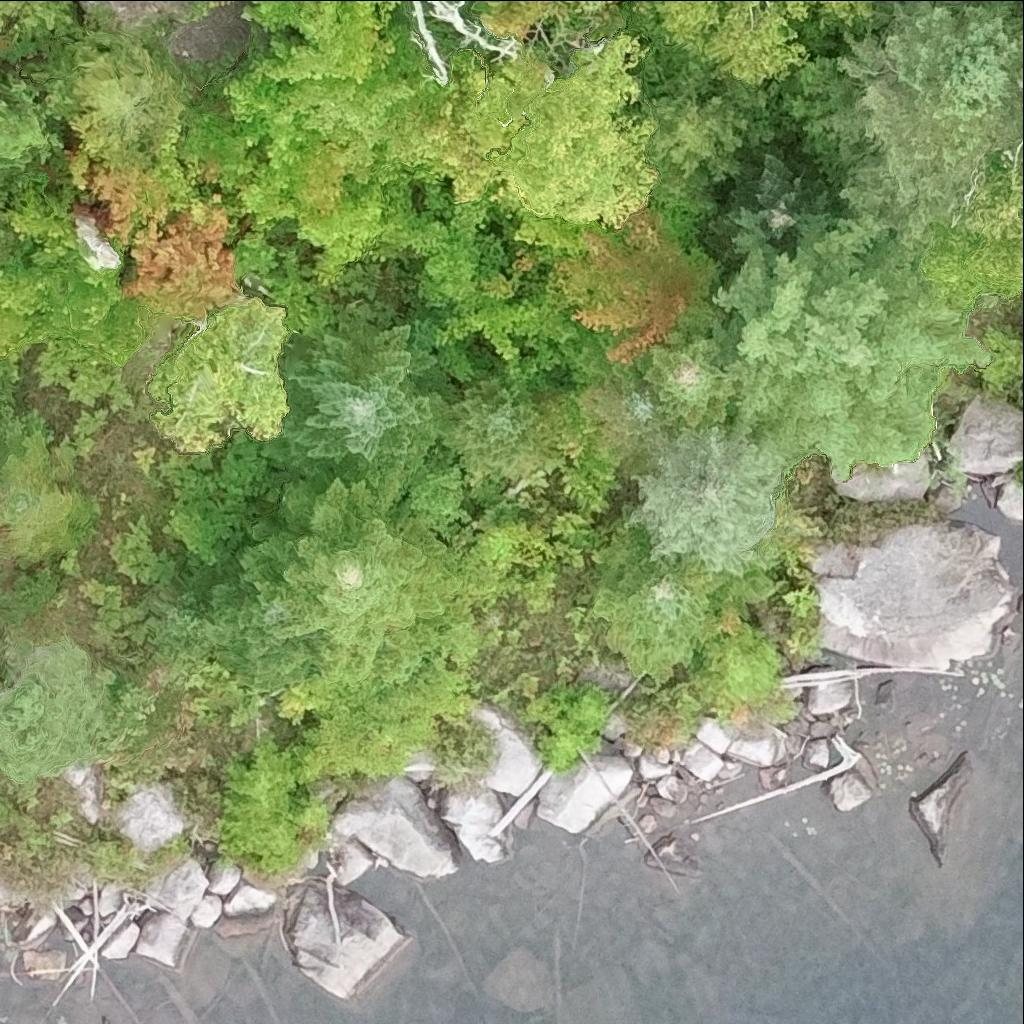crown: (710, 193, 991, 490), (204, 473, 476, 689), (790, 0, 1023, 251), (261, 309, 464, 484), (510, 208, 723, 365), (377, 49, 552, 202), (237, 143, 414, 285), (625, 426, 788, 579), (592, 522, 733, 679), (149, 298, 290, 453), (637, 0, 874, 85), (398, 167, 525, 318), (226, 68, 414, 167), (69, 115, 212, 245), (0, 631, 119, 783), (0, 257, 162, 366), (96, 652, 199, 797), (217, 740, 331, 869), (0, 408, 94, 562), (123, 207, 246, 324), (437, 374, 560, 486), (240, 0, 402, 84), (435, 277, 580, 359), (74, 31, 181, 141), (651, 77, 747, 180), (682, 629, 790, 719), (643, 332, 735, 436), (968, 129, 1023, 288), (581, 381, 680, 464), (0, 188, 81, 265), (473, 0, 623, 39), (0, 94, 50, 184), (0, 0, 72, 38), (0, 306, 33, 359), (0, 224, 15, 256), (1007, 4, 1023, 31), (1015, 460, 1023, 487), (1019, 69, 1023, 114), (205, 0, 223, 9)
